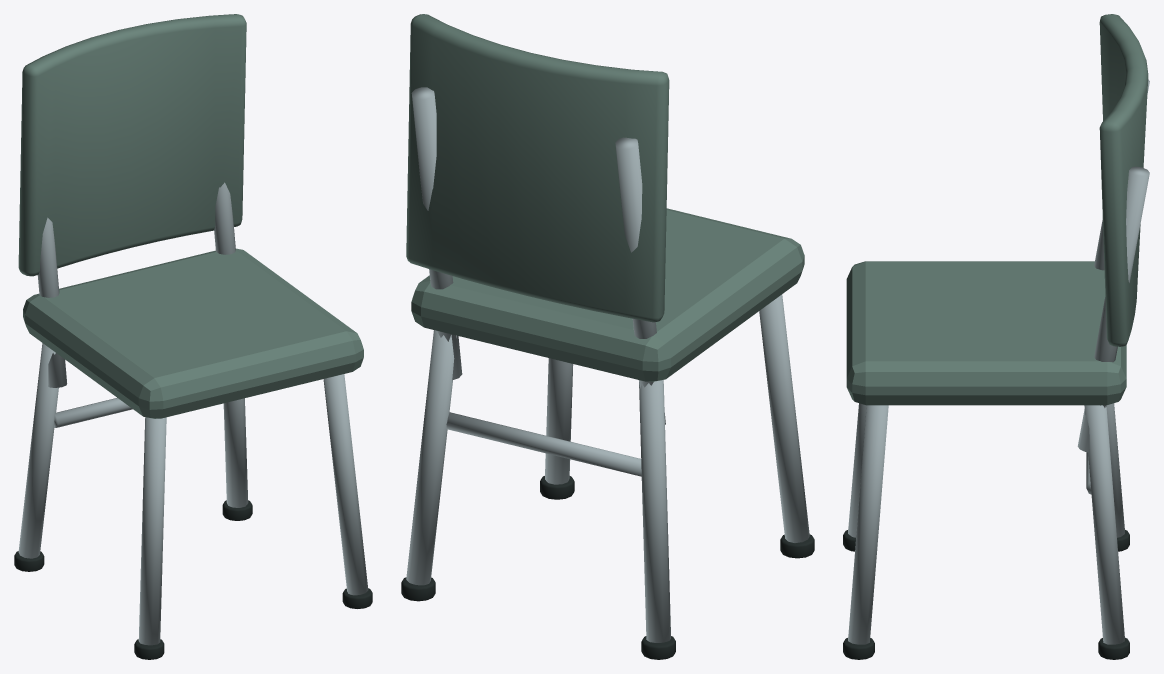
The model's file is chair.glb.
The picture shows the model from 3 angles, left to right: view 1: azimuth 30°, elevation 25°; view 2: azimuth 150°, elevation 25°; view 3: azimuth 270°, elevation 25°; orthographic projection. The views are drawn at different scales.
Visible parts, largest first — view 1: chair_Moss_upholstery, chair_Satin_stainless_steel, chair_EPDM_bearing_seal; view 2: chair_Moss_upholstery, chair_Satin_stainless_steel, chair_EPDM_bearing_seal; view 3: chair_Moss_upholstery, chair_Satin_stainless_steel, chair_EPDM_bearing_seal.
Part boxes in pixels (x1,y1,x2,y2): chair_Moss_upholstery: [18, 14, 363, 418]; chair_Satin_stainless_steel: [18, 182, 368, 645]; chair_EPDM_bearing_seal: [14, 500, 372, 659]; chair_Moss_upholstery: [406, 14, 804, 381]; chair_Satin_stainless_steel: [406, 87, 809, 642]; chair_EPDM_bearing_seal: [401, 476, 814, 659]; chair_Moss_upholstery: [846, 14, 1148, 405]; chair_Satin_stainless_steel: [848, 79, 1149, 644]; chair_EPDM_bearing_seal: [843, 530, 1129, 659].
Bounding box in the file's own units: 0.4512 × 0.924 × 0.4824.
